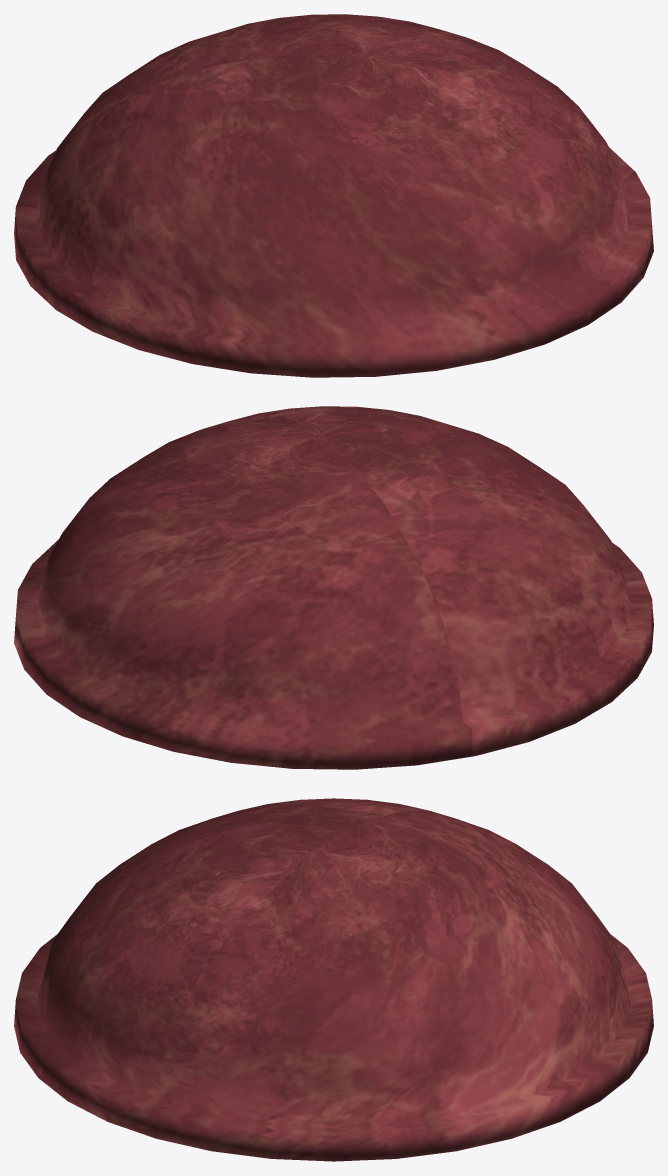
The model's file is dome.obj.
3 views of the same model, one above another, from view 1: azimuth 30°, elevation 25°; view 2: azimuth 150°, elevation 25°; view 3: azimuth 270°, elevation 25° (orthographic).
Visible parts, largest first — view 1: Sphere; view 2: Sphere; view 3: Sphere.
Part boxes in pixels (left/top/right/bottom): Sphere: left=14, top=14, right=653, bottom=377; Sphere: left=14, top=406, right=653, bottom=769; Sphere: left=14, top=798, right=653, bottom=1161.
Bounding box in the file's own units: 157 × 50.76 × 157.
